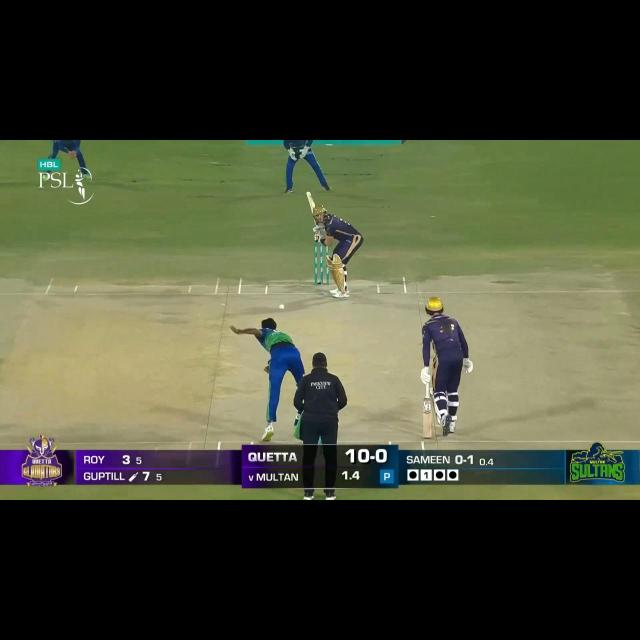bat: (418, 396, 436, 442), (304, 192, 317, 213)
toe: (422, 431, 434, 440), (304, 189, 313, 196)
